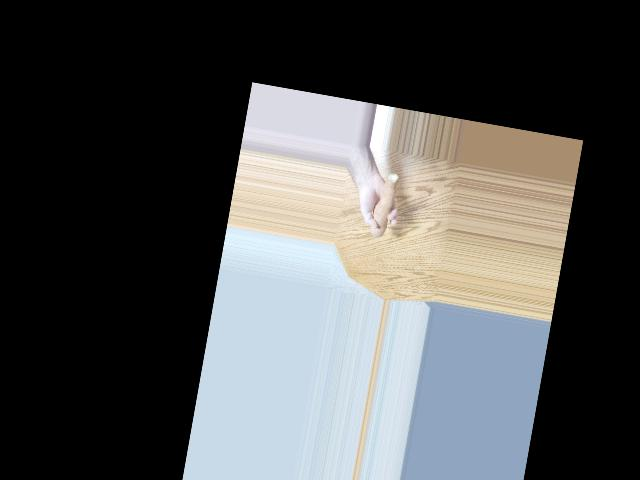sweet_potato: (368, 176, 399, 235)
